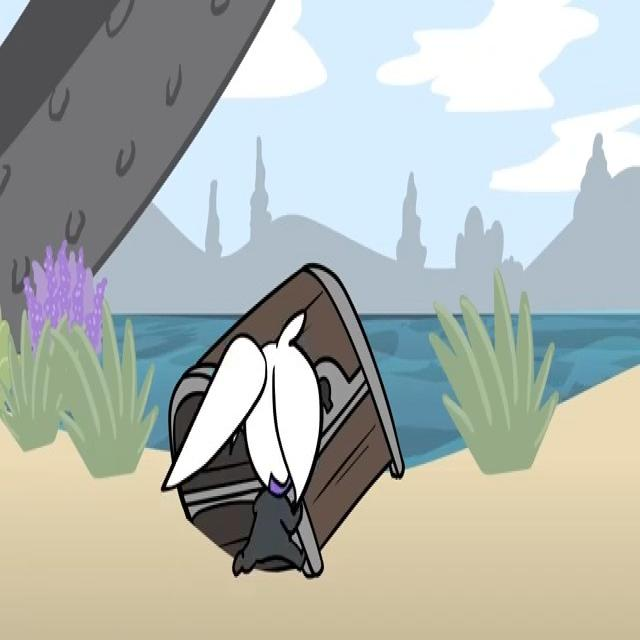miss Demeanor: (161, 308, 323, 577)
